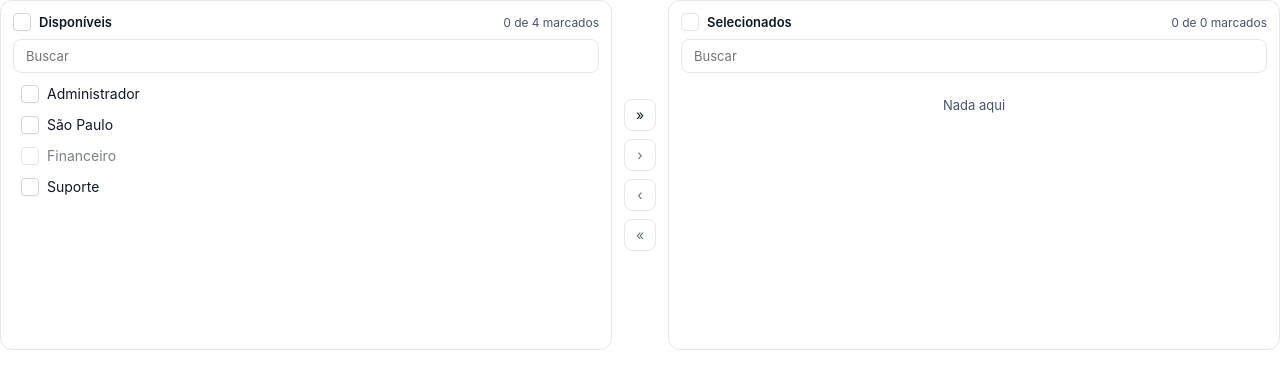
it: Transfer › says when a filter matched nothing, which is not the same as an empty pane
In the search field with placeholder "Buscar" below "Disponíveis": (306, 56) [13, 39, 599, 73], type "zzz"
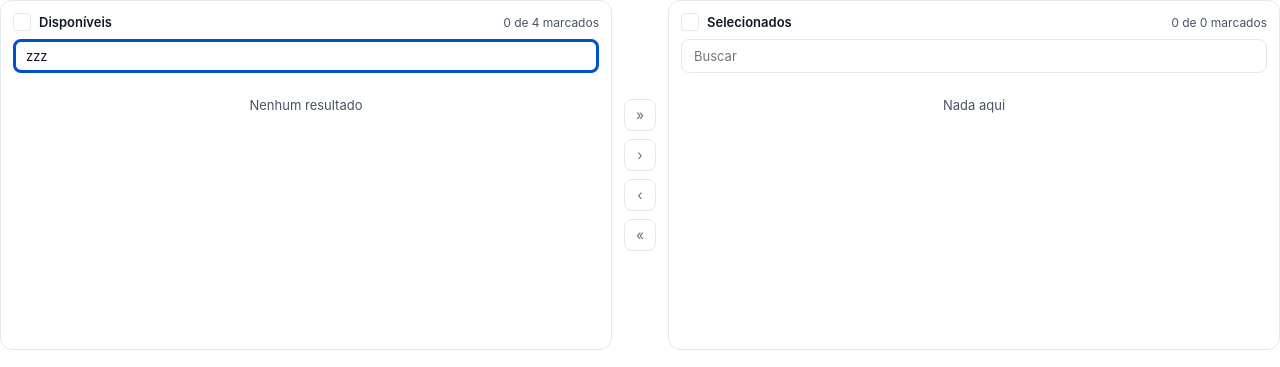
expect the list item "Nada aqui" is shown: met, box [943, 97, 1005, 113]
expect the list item "Nenhum resultado" is shown: met, box [250, 97, 362, 113]
